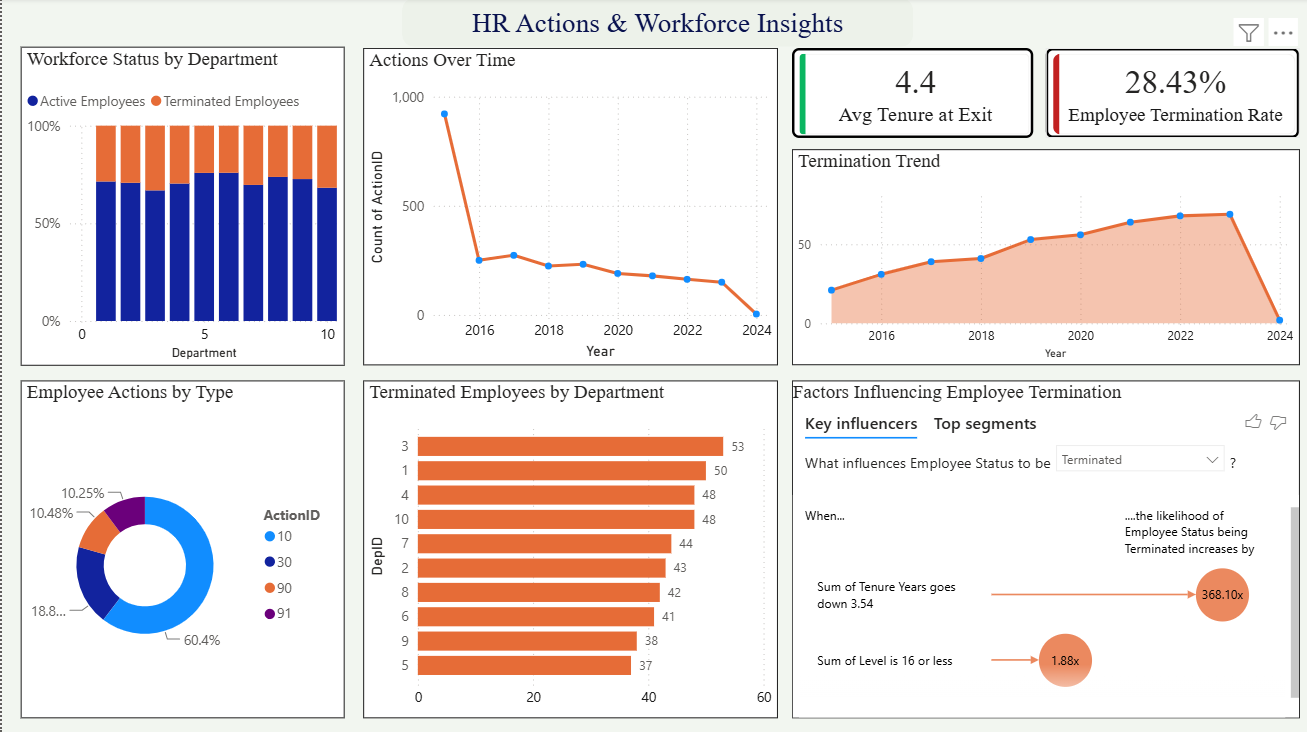

The dashboard page shown, as its layout file describes it:
{"tool":"powerbi","page":{"name":"Page 4","canvas":[1280,720],"ordinal":3},"visuals":[{"type":"donutChart","title":"Employee Actions by Type","fields":{"Category":["tbl_Action.ActionID"],"Y":["CountNonNull(tbl_Action.ActID)"]},"box":[18.3,374.2,316.7,330.2],"z":0},{"type":"lineChart","title":"Actions Over Time","fields":{"Category":["tbl_Action.EffectiveDt.Variation.Date Hierarchy.Year"],"Y":["CountNonNull(tbl_Action.ActionID)"]},"box":[353.4,48.9,406,310.6],"z":1000},{"type":"clusteredBarChart","title":"Terminated Employees by Department","fields":{"Category":["tbl_Employee.DepID"],"Y":["Table.Terminated Employees"]},"box":[353.4,374.2,406,330.2],"z":2000},{"type":"areaChart","title":"Termination Trend","fields":{"Category":["tbl_Employee.TermDt.Variation.Date Hierarchy.Year"],"Y":["Table.Terminated Employees"]},"box":[772.8,148,496.5,211.6],"z":3000},{"type":"cardVisual","fields":{"Data":["Table.Avg Tenure at Exit"]},"box":[772.8,48.9,236,88],"z":4000},{"type":"hundredPercentStackedColumnChart","title":"Workforce Status by Department","fields":{"Category":["tbl_Employee.DepID"],"Y":["Table.Active Employees","Table.Terminated Employees"]},"box":[18.3,47.7,316.7,311.8],"z":5000},{"type":"cardVisual","fields":{"Data":["Table.Termination %"]},"box":[1021.1,48.9,248.2,88],"z":6000},{"type":"keyDriversVisual","title":"Factors Influencing Employee Termination","fields":{"ExplainBy":["CountNonNull(tbl_Employee.DepID)","Sum(tbl_Employee.Level)","CountNonNull(tbl_Employee.RaceID)","Sum(tbl_Employee.Tenure Years)","CountNonNull(tbl_Employee.GenderID)"],"Target":["tbl_Employee.Employee Status"]},"box":[772.8,374.2,496.5,330.2],"z":7000},{"type":"shape","box":[391.3,0,500.1,47.7],"z":8000}]}

Visuals, with their boxes in screenshot pixels (x1, y1, x2, y2), scaled from the page's 1280x720 canvas onto the 1307x732 screenshot:
"Employee Actions by Type" donutChart: box=[19, 380, 342, 716]
"Actions Over Time" lineChart: box=[361, 50, 775, 365]
"Terminated Employees by Department" clusteredBarChart: box=[361, 380, 775, 716]
"Termination Trend" areaChart: box=[789, 150, 1296, 366]
cardVisual - Table.Avg Tenure at Exit: box=[789, 50, 1030, 139]
"Workforce Status by Department" hundredPercentStackedColumnChart: box=[19, 48, 342, 365]
cardVisual - Table.Termination %: box=[1043, 50, 1296, 139]
"Factors Influencing Employee Termination" keyDriversVisual: box=[789, 380, 1296, 716]
shape: box=[400, 0, 910, 48]
